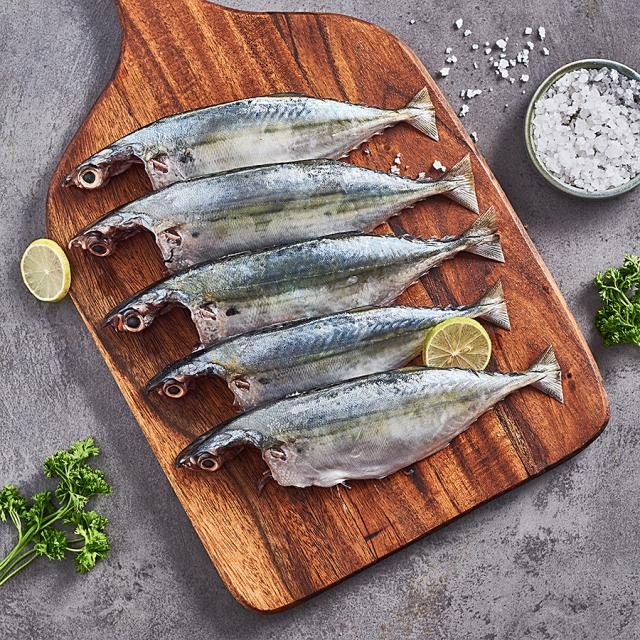Mackerel: (104, 206, 503, 346), (175, 346, 562, 489), (69, 155, 478, 273), (146, 282, 509, 411), (62, 88, 438, 189)
lemon: (422, 318, 491, 369), (21, 239, 70, 302)
